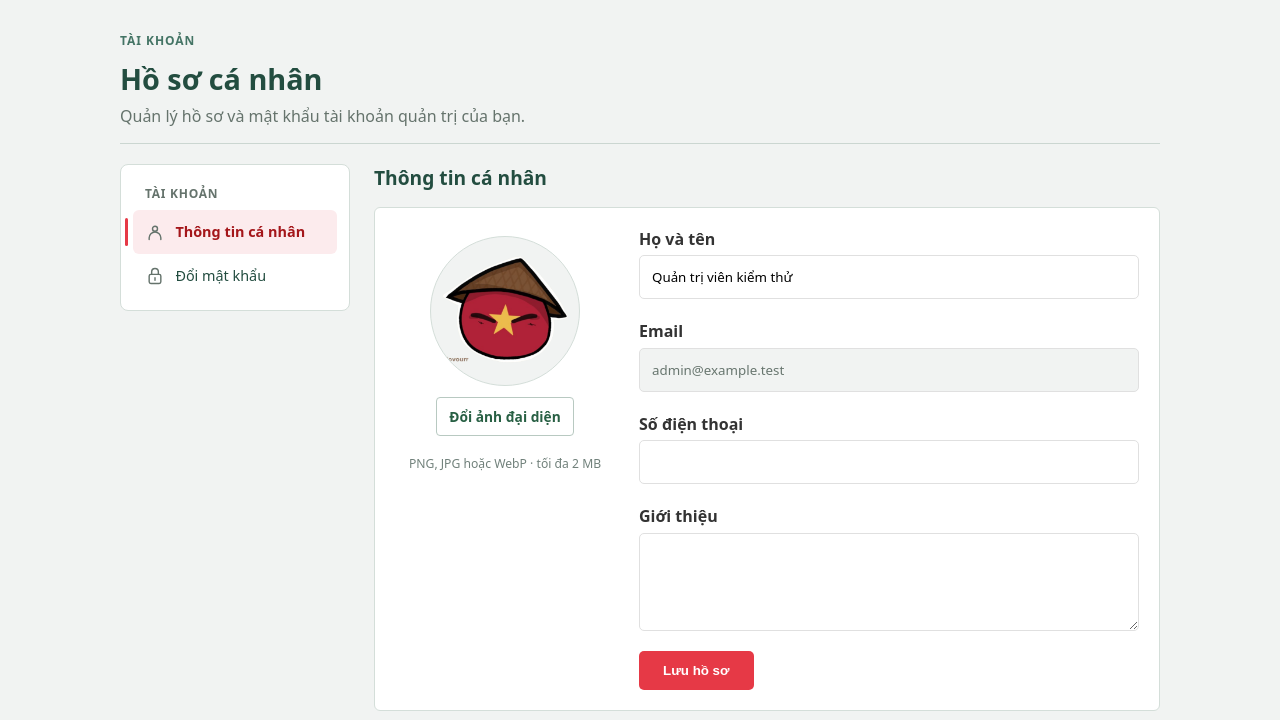
quản trị viên đổi mật khẩu chính chủ mà không tải lịch sử cảnh báo học sinh hoặc giáo viên
Click the button "Đổi mật khẩu" at (235, 276), box [133,254,337,298]
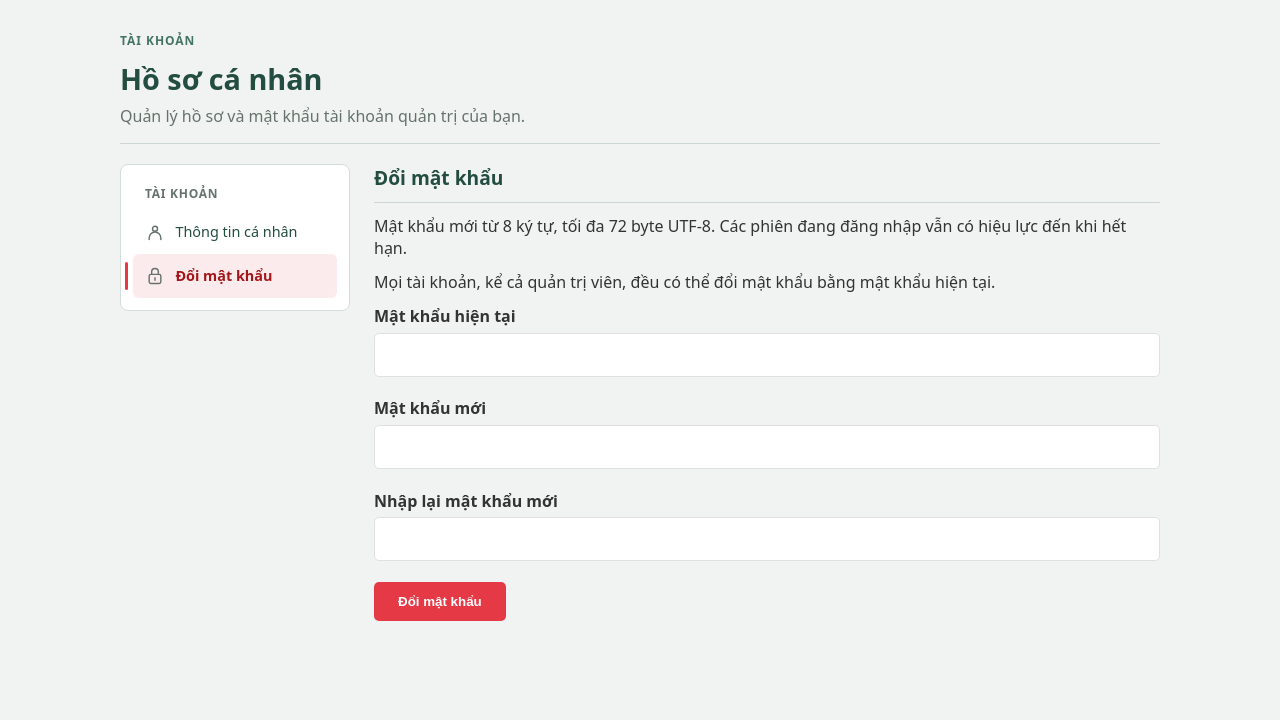
Now the form named "Đổi mật khẩu" is shown, box [374,305,1160,621]
Type "Old-password!" into the password field named "currentPassword" at (767, 355), box [374,333,1160,377]
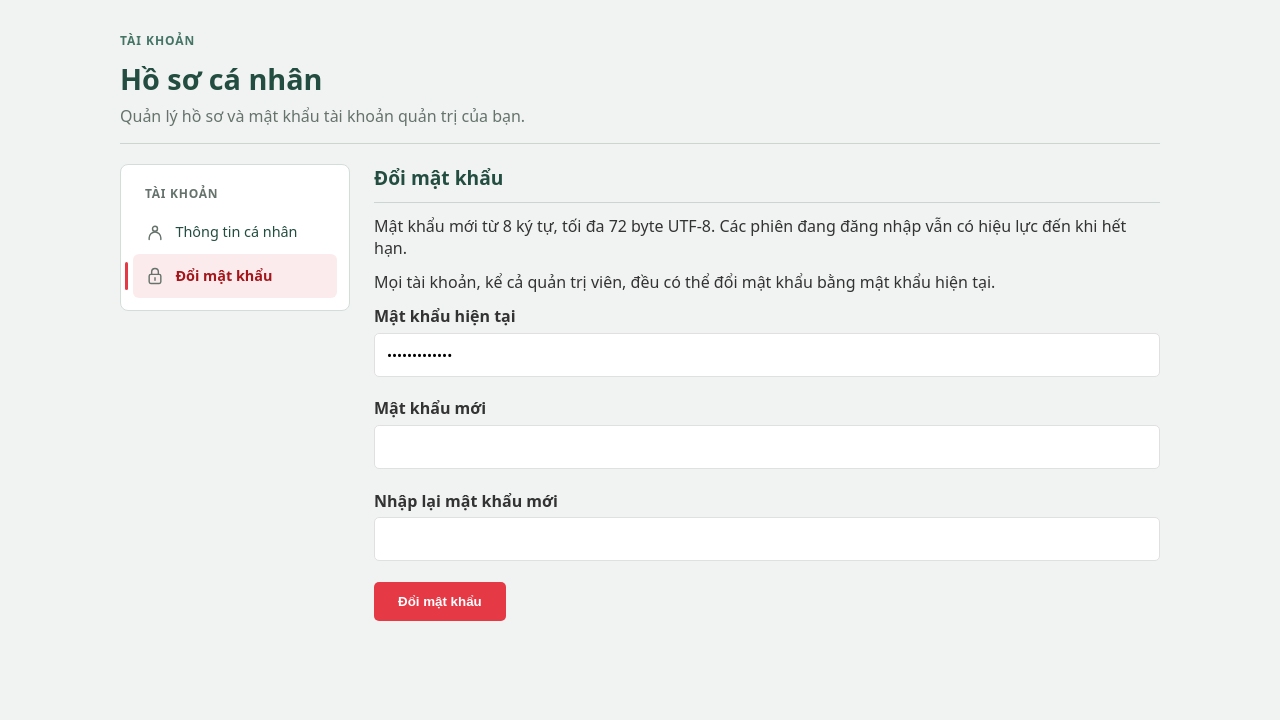
Type "New-password!" into the password field named "newPassword" at (767, 447), box [374,425,1160,469]
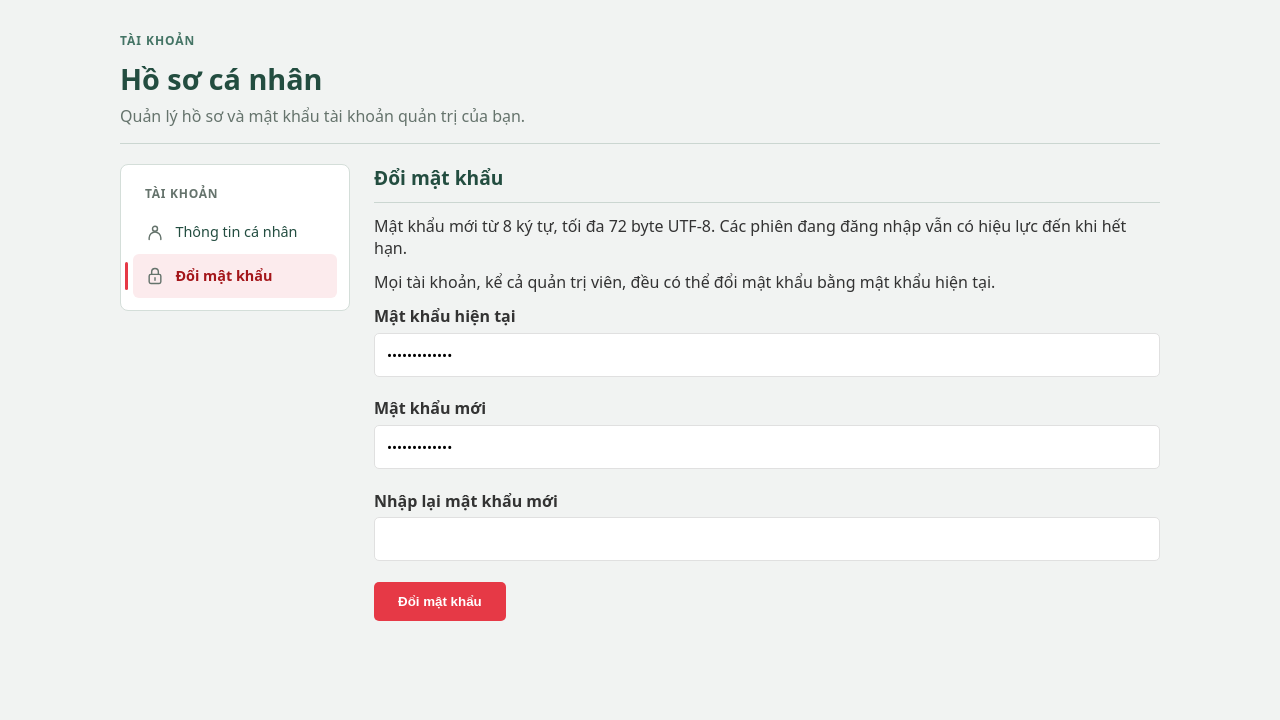
Type "New-password!" into the password field labelled "Nhập lại mật khẩu mới" at (767, 539), box [374,517,1160,561]
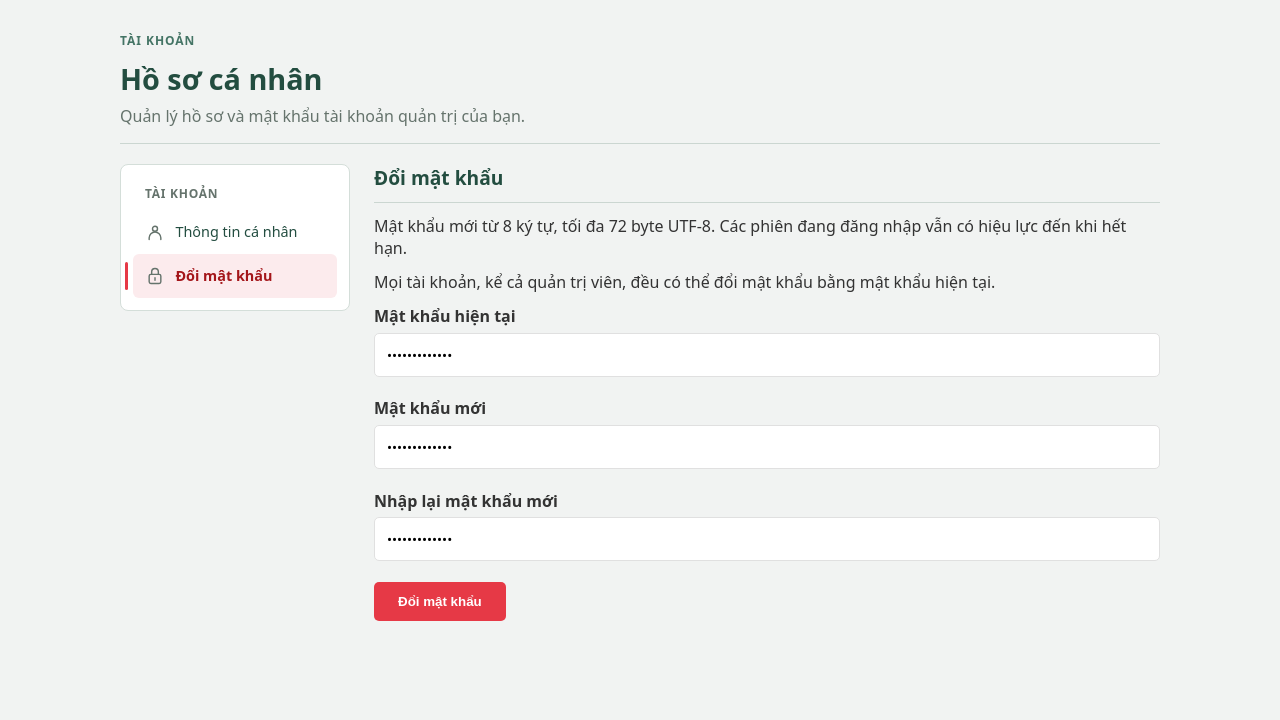
Submit the form named "Đổi mật khẩu", box [374,305,1160,621]
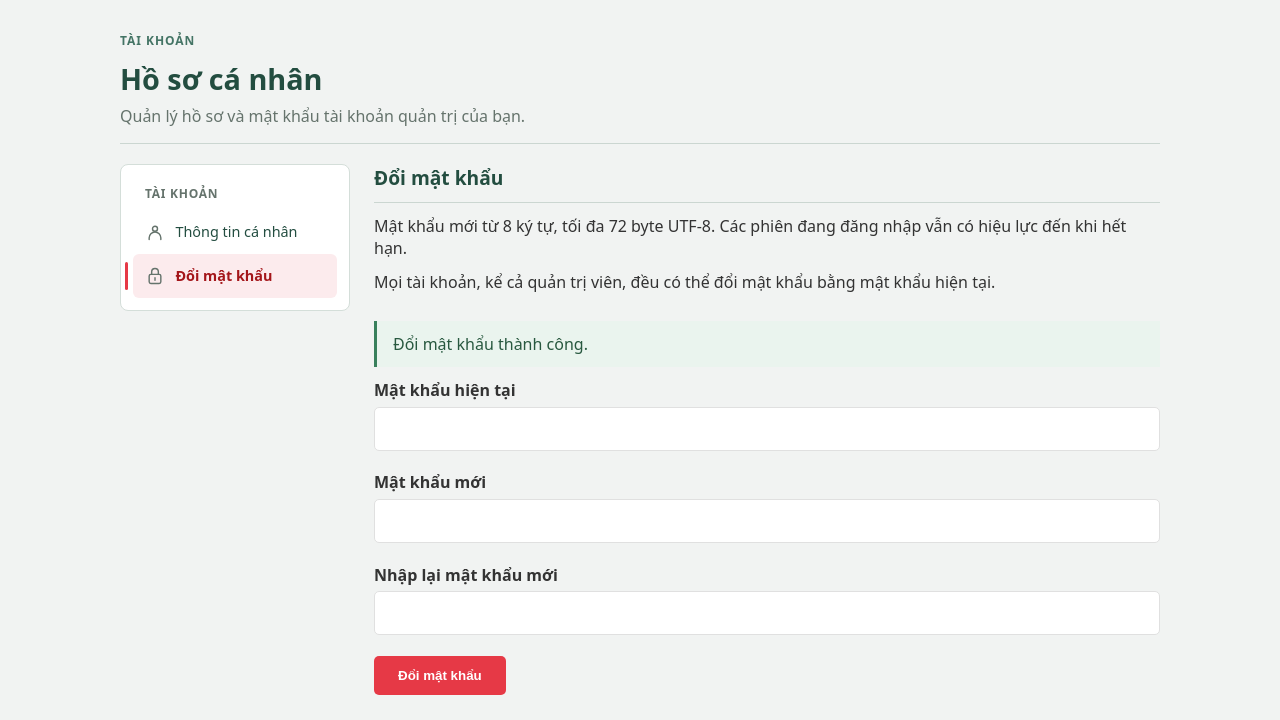
Now the text "Đổi mật khẩu thành công." is shown, box [374,321,1160,367]
